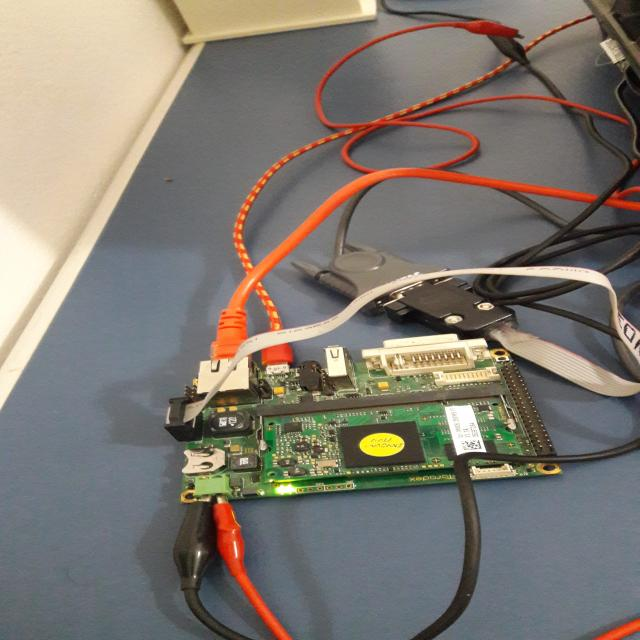som: (265, 390, 539, 483)
